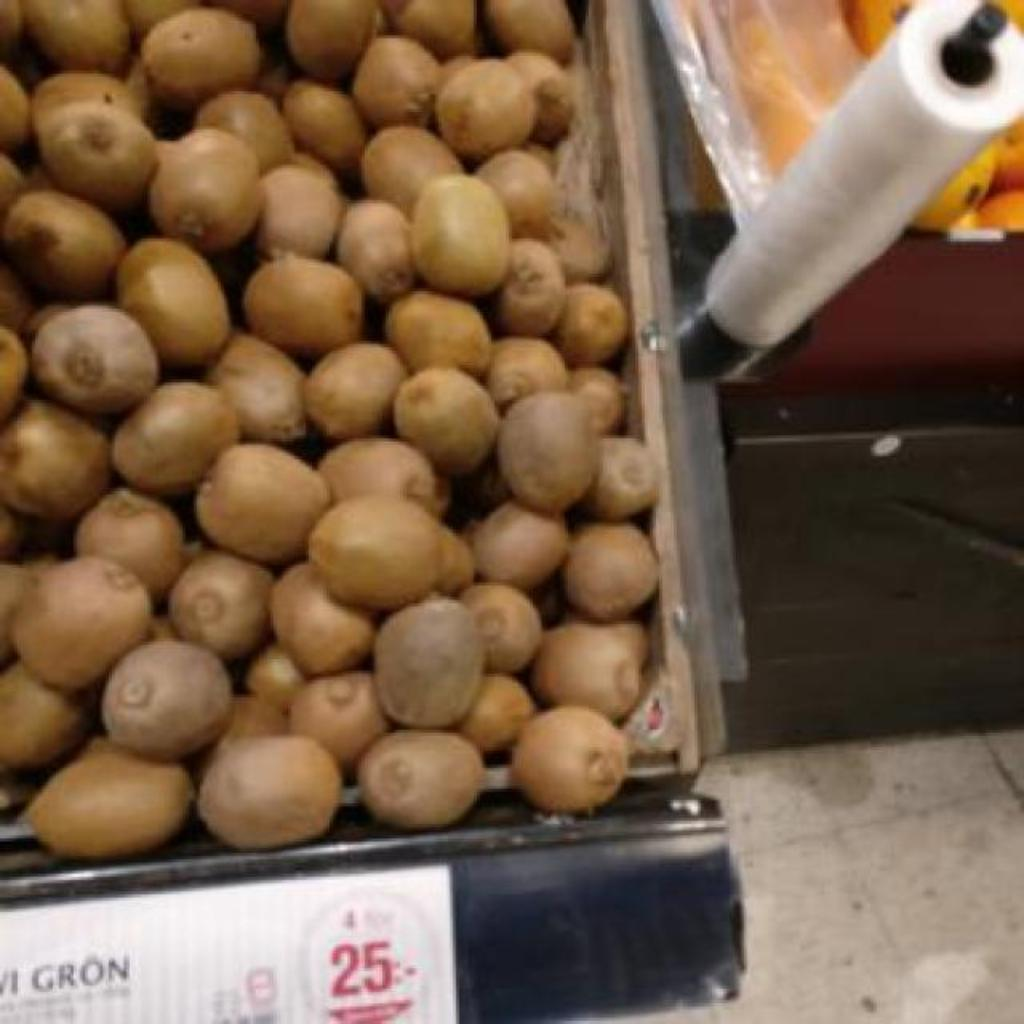kiwi: (26, 738, 192, 857), (12, 556, 152, 691), (196, 444, 330, 563), (200, 738, 342, 849), (102, 642, 230, 759), (308, 496, 438, 609), (118, 238, 230, 367), (374, 596, 484, 727), (112, 382, 238, 495), (30, 304, 158, 413), (2, 190, 126, 299), (148, 128, 256, 251), (0, 400, 110, 518), (38, 102, 154, 213), (358, 730, 482, 829), (498, 392, 598, 513), (76, 488, 184, 599), (270, 562, 376, 675), (412, 176, 510, 297), (244, 258, 362, 357), (514, 706, 624, 812), (168, 550, 274, 659), (142, 10, 258, 109), (434, 58, 536, 163), (208, 334, 306, 443), (534, 622, 642, 719), (396, 368, 494, 472), (304, 344, 408, 440), (288, 672, 388, 771), (0, 662, 90, 769), (318, 440, 446, 515), (360, 126, 464, 213), (386, 290, 492, 375), (566, 524, 658, 621), (472, 502, 568, 589), (336, 200, 416, 303), (197, 90, 294, 171), (282, 82, 368, 173), (354, 36, 440, 127), (24, 0, 130, 71), (260, 168, 342, 258), (460, 584, 540, 673), (476, 150, 556, 239), (494, 238, 566, 335), (506, 52, 574, 143), (34, 72, 142, 129), (586, 436, 658, 520), (460, 674, 536, 753), (558, 284, 628, 365), (484, 0, 574, 61), (382, 0, 475, 57), (486, 342, 566, 407), (246, 644, 306, 709), (550, 220, 610, 281), (568, 368, 624, 433), (125, 0, 200, 39), (2, 562, 28, 663), (224, 696, 288, 737), (438, 524, 474, 595), (2, 326, 28, 423), (208, 0, 287, 31), (0, 262, 32, 331), (256, 42, 290, 103), (124, 56, 152, 119), (291, 155, 338, 189), (24, 305, 72, 337), (1, 152, 24, 215), (22, 552, 60, 589), (0, 504, 22, 557), (0, 0, 22, 51), (442, 57, 476, 85), (524, 145, 554, 171), (149, 614, 176, 640)
